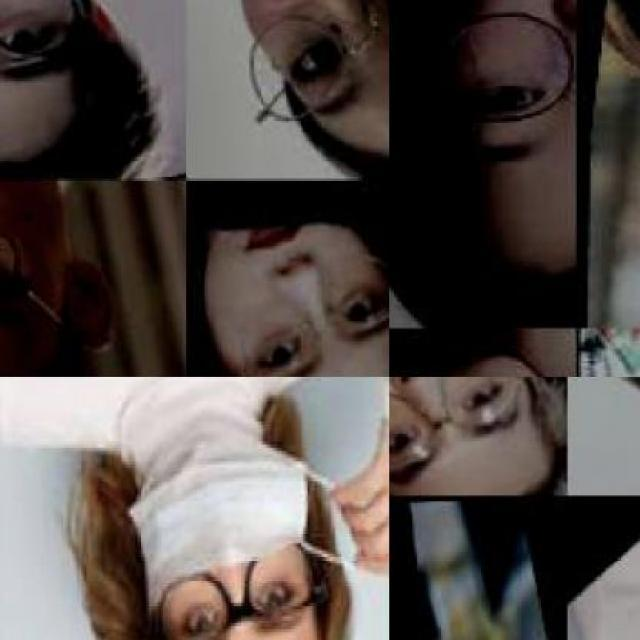glasses: (411, 0, 577, 152), (225, 0, 388, 129), (389, 377, 554, 492), (143, 544, 329, 638), (214, 284, 390, 376), (0, 0, 111, 103)
